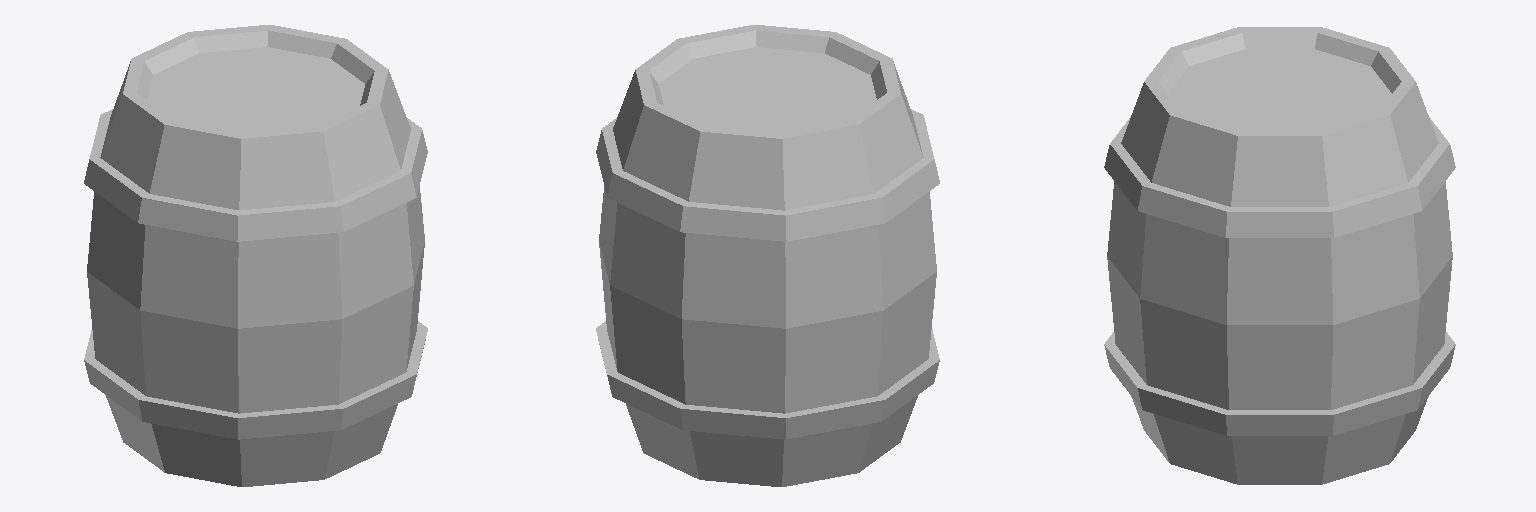
The model's file is barril_5.obj.
3 renders of one model, left to right at view 1: azimuth 30°, elevation 25°; view 2: azimuth 150°, elevation 25°; view 3: azimuth 270°, elevation 25°, orthographic.
Parts seen in each view (by area): view 1: Barril.004_Cylinder.047; view 2: Barril.004_Cylinder.047; view 3: Barril.004_Cylinder.047.
Boxes of the visible parts, x1=… form: Barril.004_Cylinder.047: x1=84, y1=25, x2=427, y2=486; Barril.004_Cylinder.047: x1=596, y1=25, x2=939, y2=486; Barril.004_Cylinder.047: x1=1104, y1=27, x2=1455, y2=484.
Size of the model in its own units: 0.8714 by 1 by 0.9152.